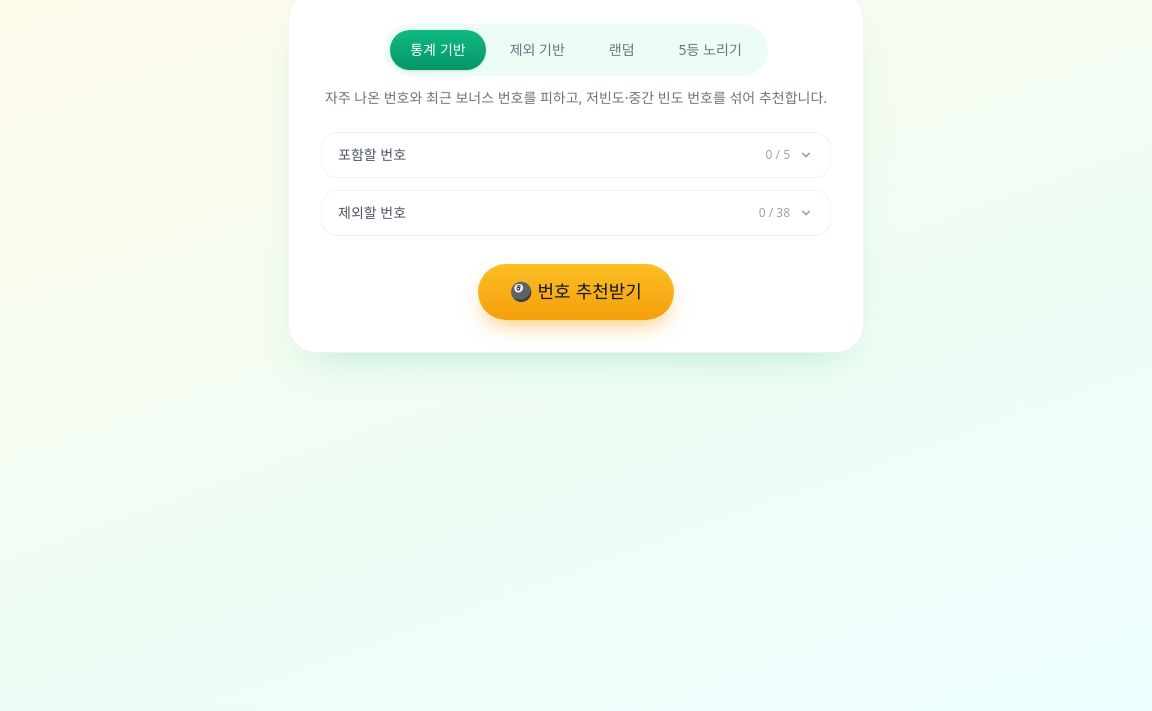
Scenario: RecommenderClient › 5등 노리기 (target5) › requests mode=target5 and renders all 5 games with the odds chips
What coordinates should you click on to do the following:
click the button "5등 노리기"
I would click on:
 (710, 50)
Its box is [659,30,762,70].
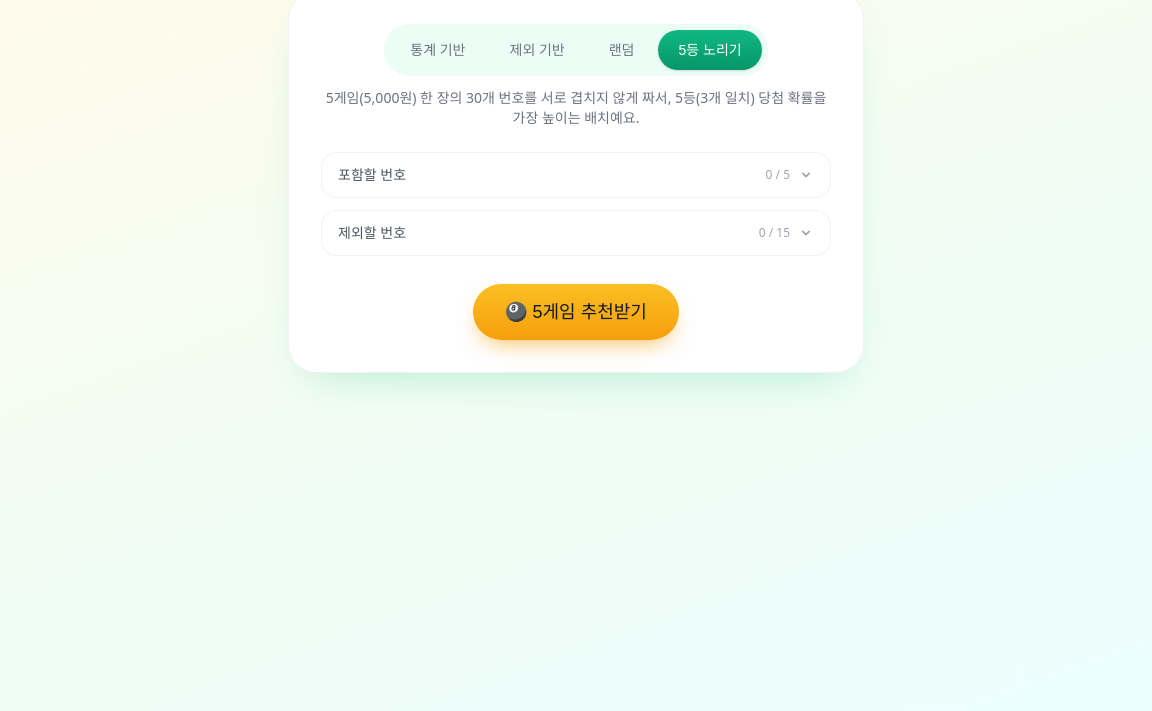
Check: the text "겹치지 않게" is shown, box [326,88,826,127]
What coordinates should you click on to do the following:
click the button "🎱 5게임 추천받기"
I would click on:
 (576, 312)
Its box is [473,284,679,340].
(page scrolled)
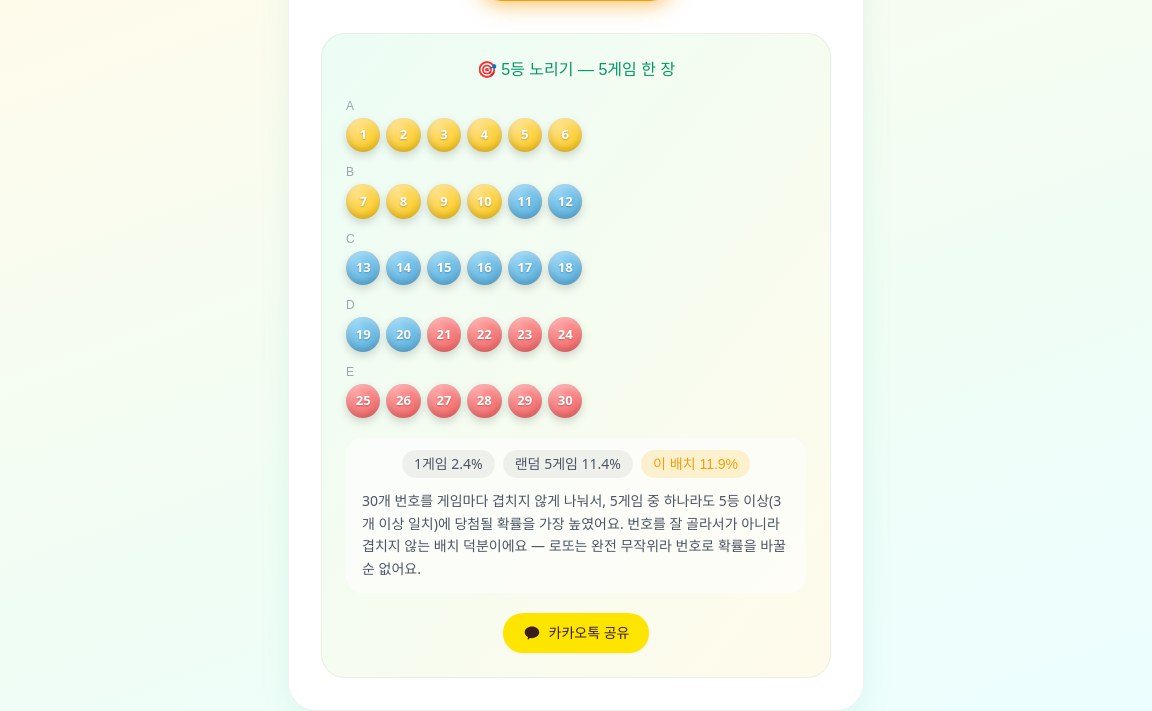
Check: the number of list items is 5, box [346,99,582,152]; [346,165,582,219]; [346,232,582,285]; [346,298,582,352]; [346,365,582,418]
Check: the text "A" is shown, box [346,99,354,113]
Check: the text "E" is shown, box [346,365,354,379]
